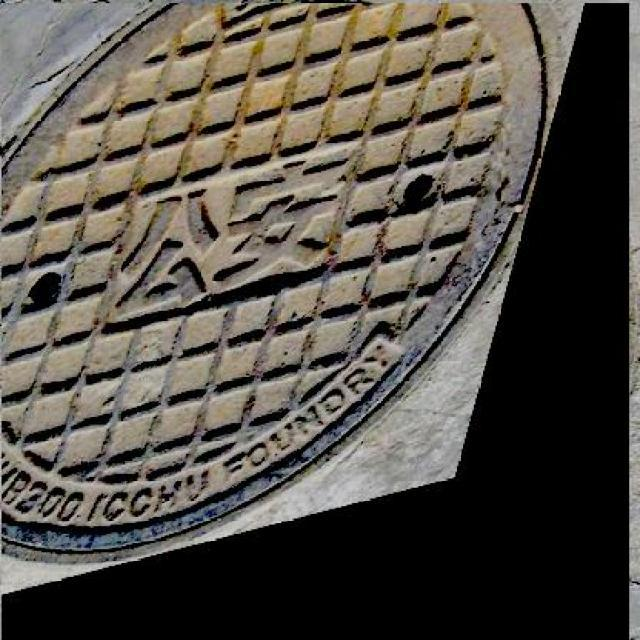Manhole: (2, 3, 630, 640)
